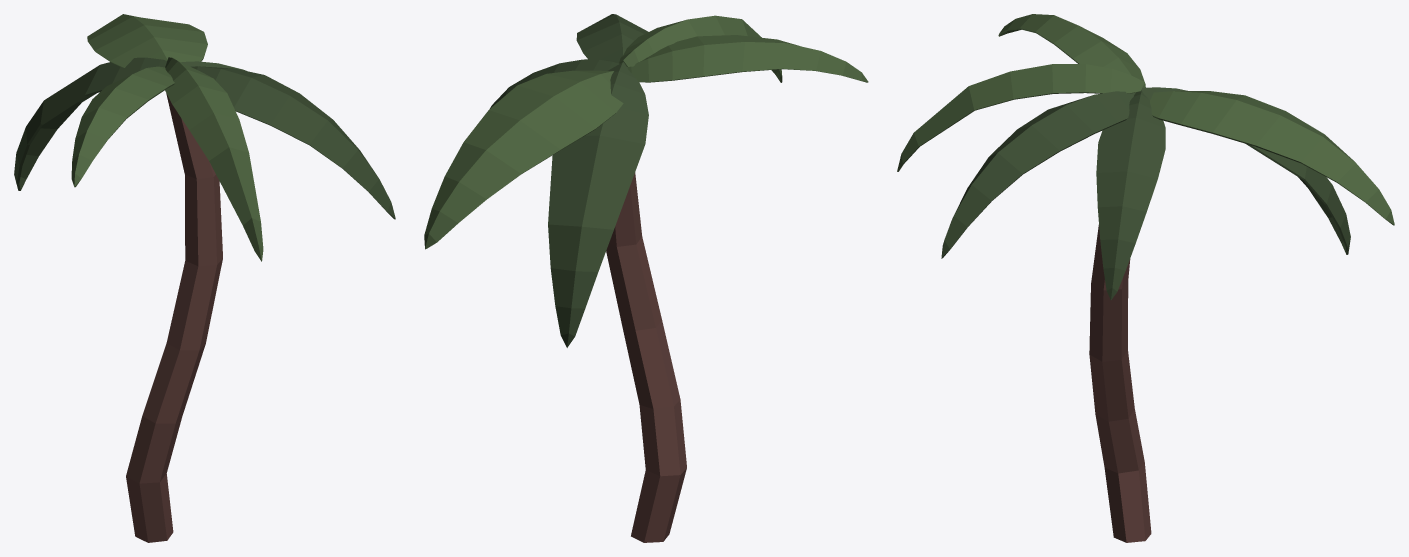
File: palmtree_2.gltf
3 views of the same model, side by side, from view 1: azimuth 30°, elevation 25°; view 2: azimuth 150°, elevation 25°; view 3: azimuth 270°, elevation 25° (orthographic). The views are drawn at different scales.
Visible parts, largest first — view 1: palmtree_2; view 2: palmtree_2; view 3: palmtree_2.
Boxes of the visible parts, x1,y1,x2,y2 form: palmtree_2: (14,14,395,542); palmtree_2: (424,14,868,542); palmtree_2: (897,14,1394,542).
Size of the model in its own units: 1.09 by 1.52 by 1.44.
Materials: 1 (1 with a texture image).
